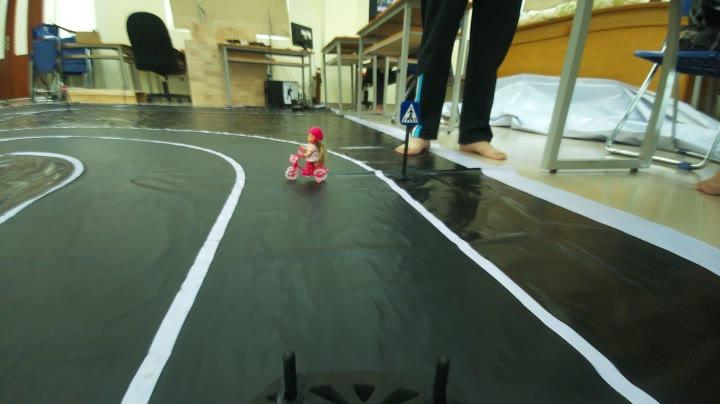crosswalk: (394, 97, 426, 130)
pedestrian: (280, 127, 338, 188)
